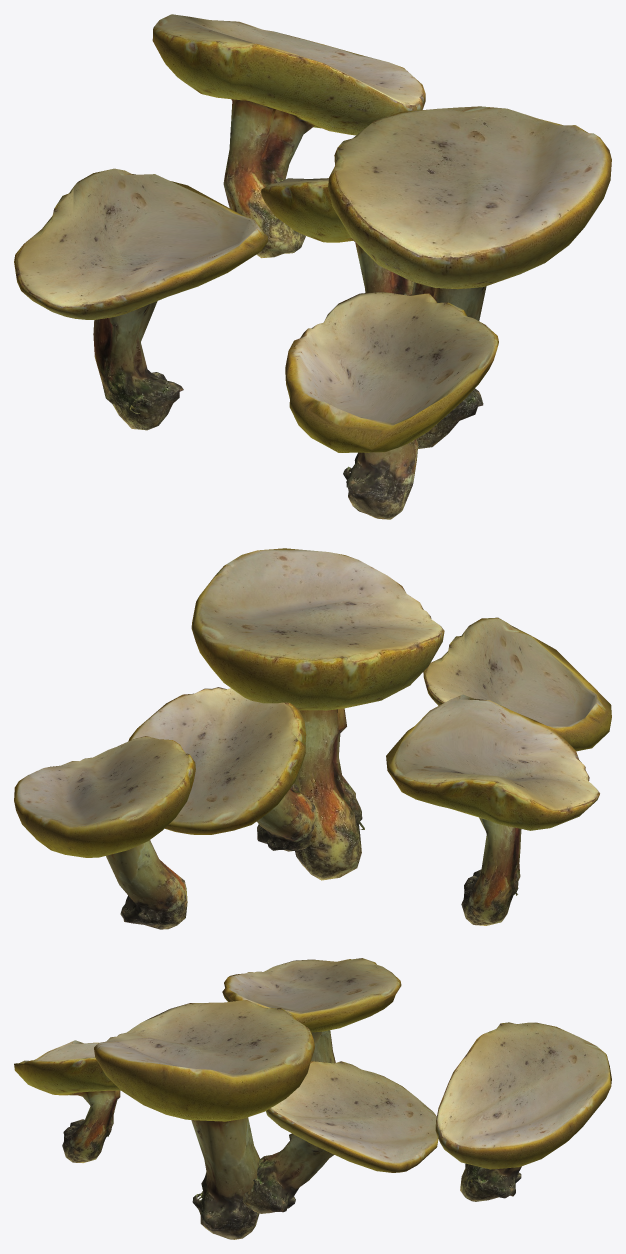
3 views of the same model, one above another, from view 1: azimuth 30°, elevation 25°; view 2: azimuth 150°, elevation 25°; view 3: azimuth 270°, elevation 25° (orthographic). The views are drawn at different scales.
Visible parts, largest first — view 1: mushroom_01, mushroom_01.003, mushroom_01.004, mushroom_01.002, mushroom_01.001; view 2: mushroom_01, mushroom_01.003, mushroom_01.002, mushroom_01.001, mushroom_01.004; view 3: mushroom_01, mushroom_01.002, mushroom_01.001, mushroom_01.003, mushroom_01.004.
Boxes of the visible parts, x1,y1,x2,y2 form: mushroom_01: (328, 106, 611, 448); mushroom_01.003: (14, 168, 268, 430); mushroom_01.004: (285, 291, 498, 519); mushroom_01.002: (152, 14, 425, 258); mushroom_01.001: (261, 178, 413, 295); mushroom_01: (191, 548, 444, 880); mushroom_01.003: (386, 694, 599, 925); mushroom_01.002: (14, 736, 195, 929); mushroom_01.001: (128, 687, 315, 851); mushroom_01.004: (423, 617, 611, 751); mushroom_01: (94, 1000, 314, 1239); mushroom_01.002: (435, 1022, 611, 1201); mushroom_01.001: (243, 1061, 438, 1213); mushroom_01.003: (222, 958, 401, 1063); mushroom_01.004: (14, 1040, 120, 1162).
Size of the model in its own units: 178 by 98.3 by 240.
1 material, 1 textured.
